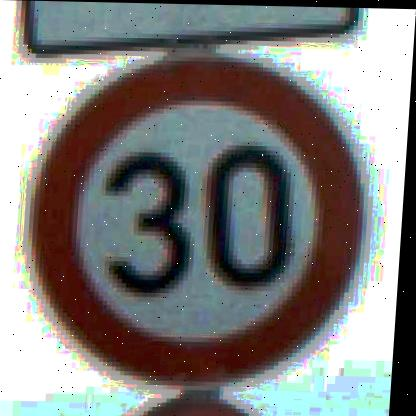Speed Limit -30-: (17, 45, 384, 397)
